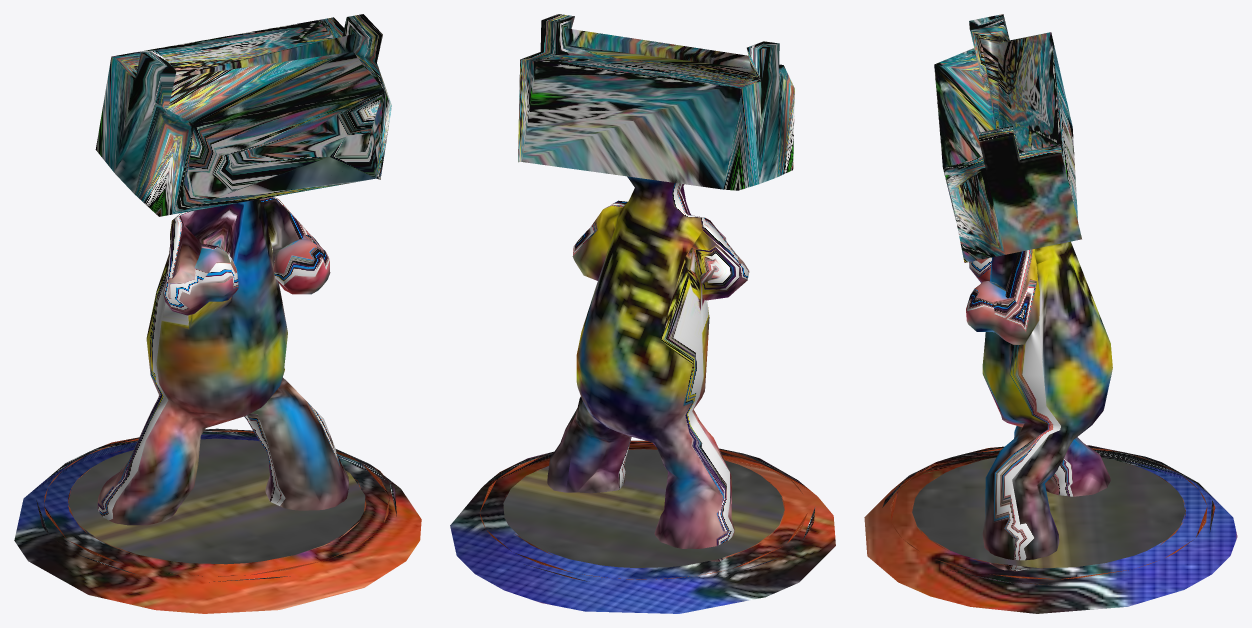
3 renders of one model, left to right at view 1: azimuth 30°, elevation 25°; view 2: azimuth 150°, elevation 25°; view 3: azimuth 270°, elevation 25°, orthographic. The views are drawn at different scales.
Size of the model in its own units: 1.44 by 2.01 by 1.43.
4 materials, 4 textured.
